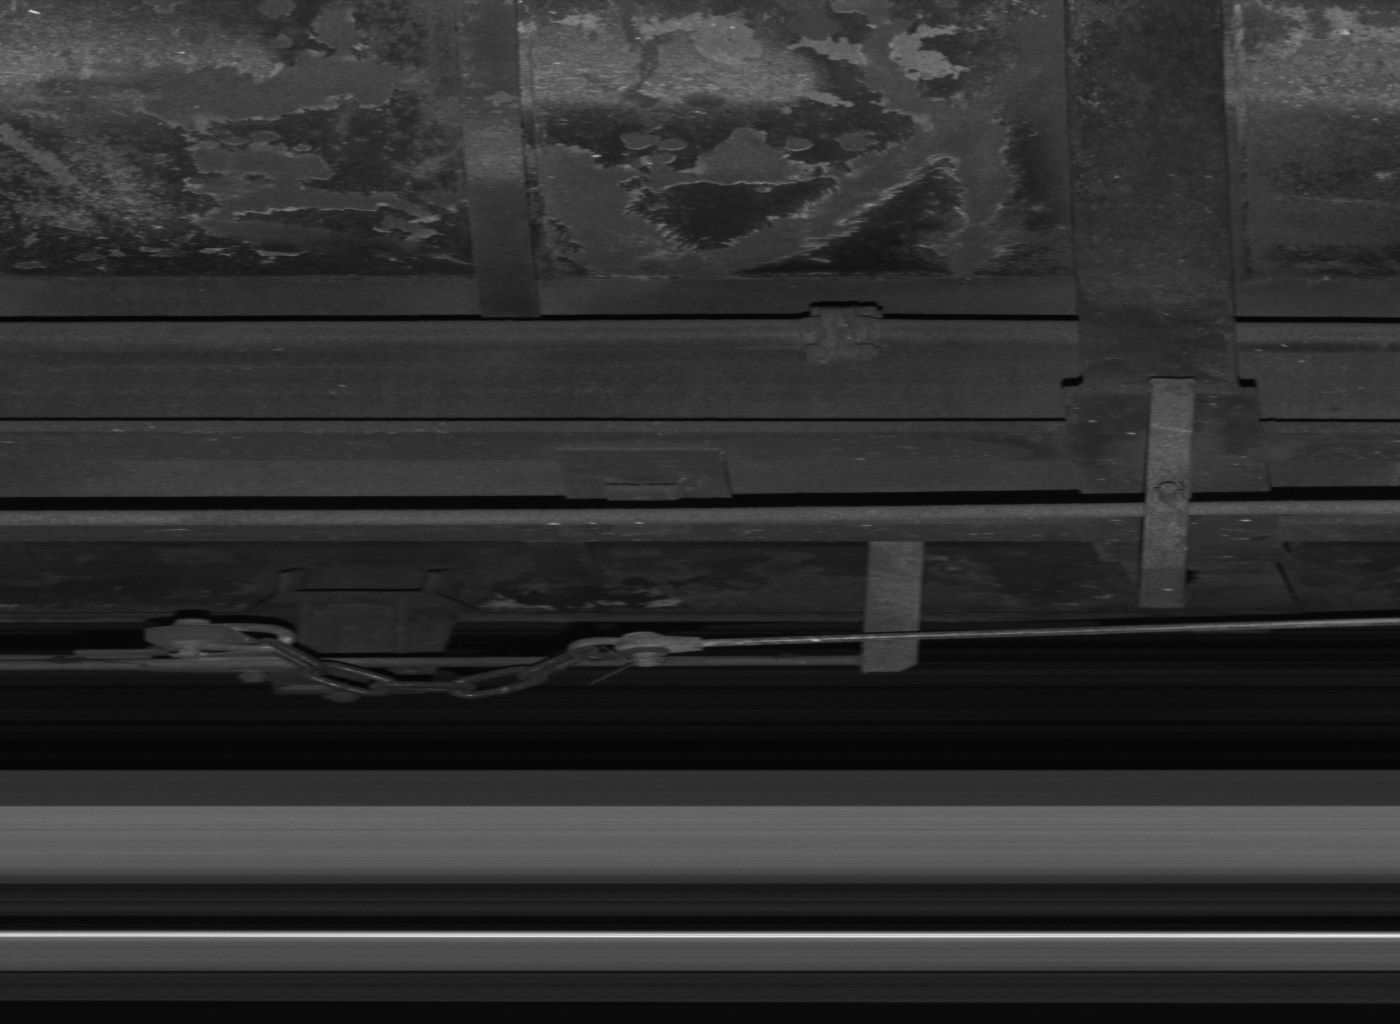normal: (1141, 376, 1192, 610)
upper lever: (862, 539, 922, 673)
